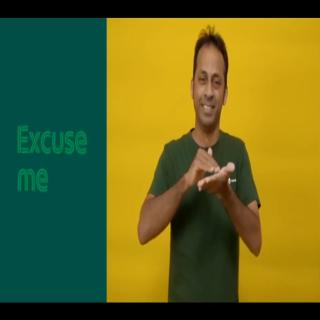ExcuseMe: (138, 28, 263, 299)
